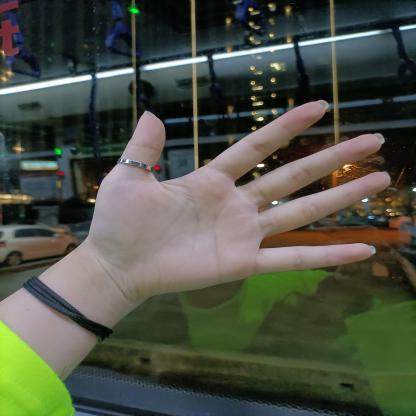bare_hand: (70, 80, 400, 302)
